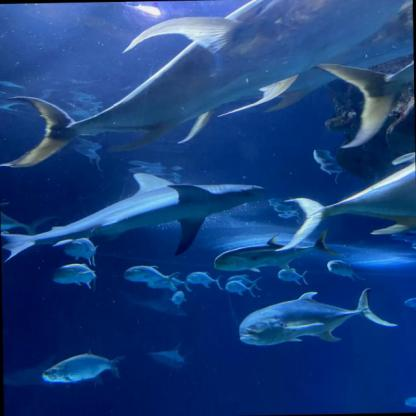fish: (0, 0, 412, 170), (273, 152, 415, 252), (312, 48, 415, 149), (237, 288, 396, 346), (213, 228, 341, 272), (41, 349, 126, 384), (0, 200, 60, 236), (124, 264, 182, 290), (52, 263, 98, 291), (64, 237, 98, 266), (326, 260, 365, 282), (147, 275, 192, 292), (186, 271, 224, 290), (225, 279, 256, 297), (279, 268, 309, 286), (227, 274, 263, 286), (170, 290, 186, 309), (403, 395, 415, 412), (403, 296, 415, 310)
shark: (0, 170, 267, 264), (146, 341, 189, 370)
